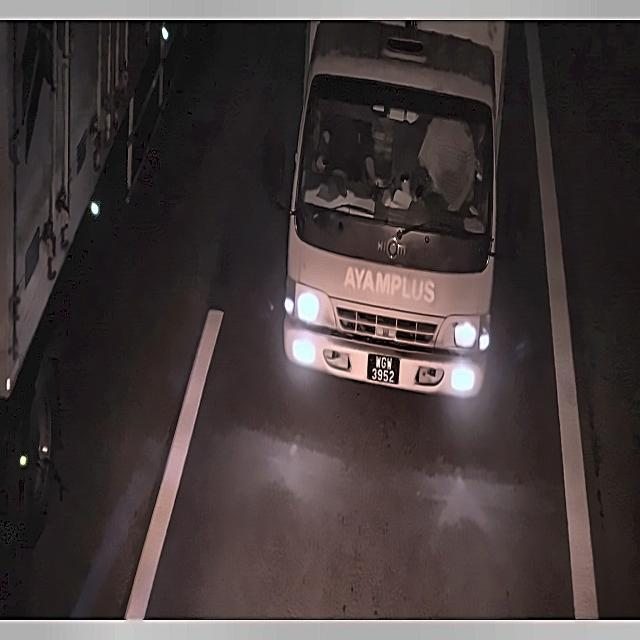car: (363, 343, 408, 392)
